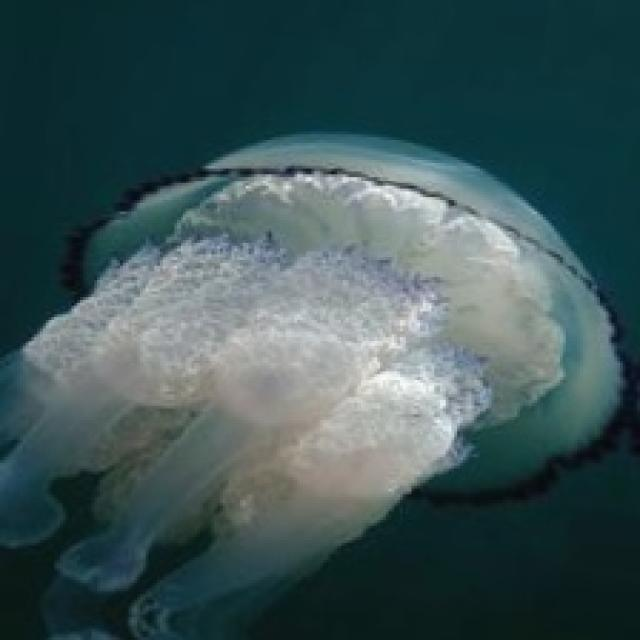Jellyfish: (0, 129, 637, 637)
